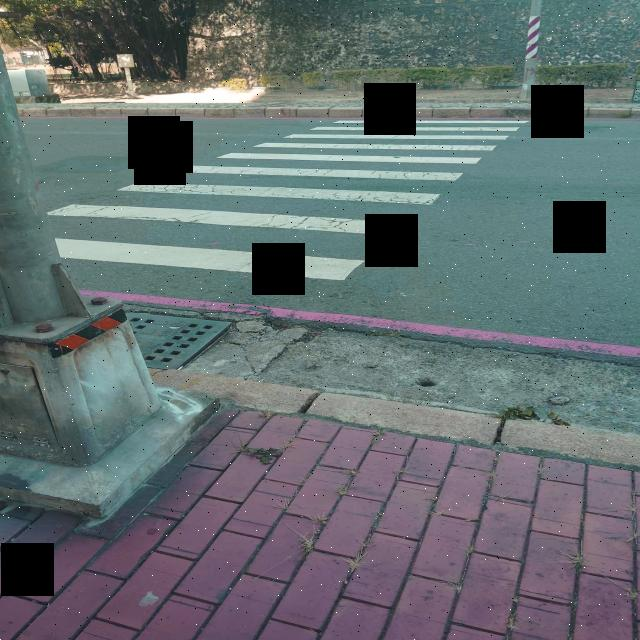zebra_crossing: (80, 218, 608, 342)
